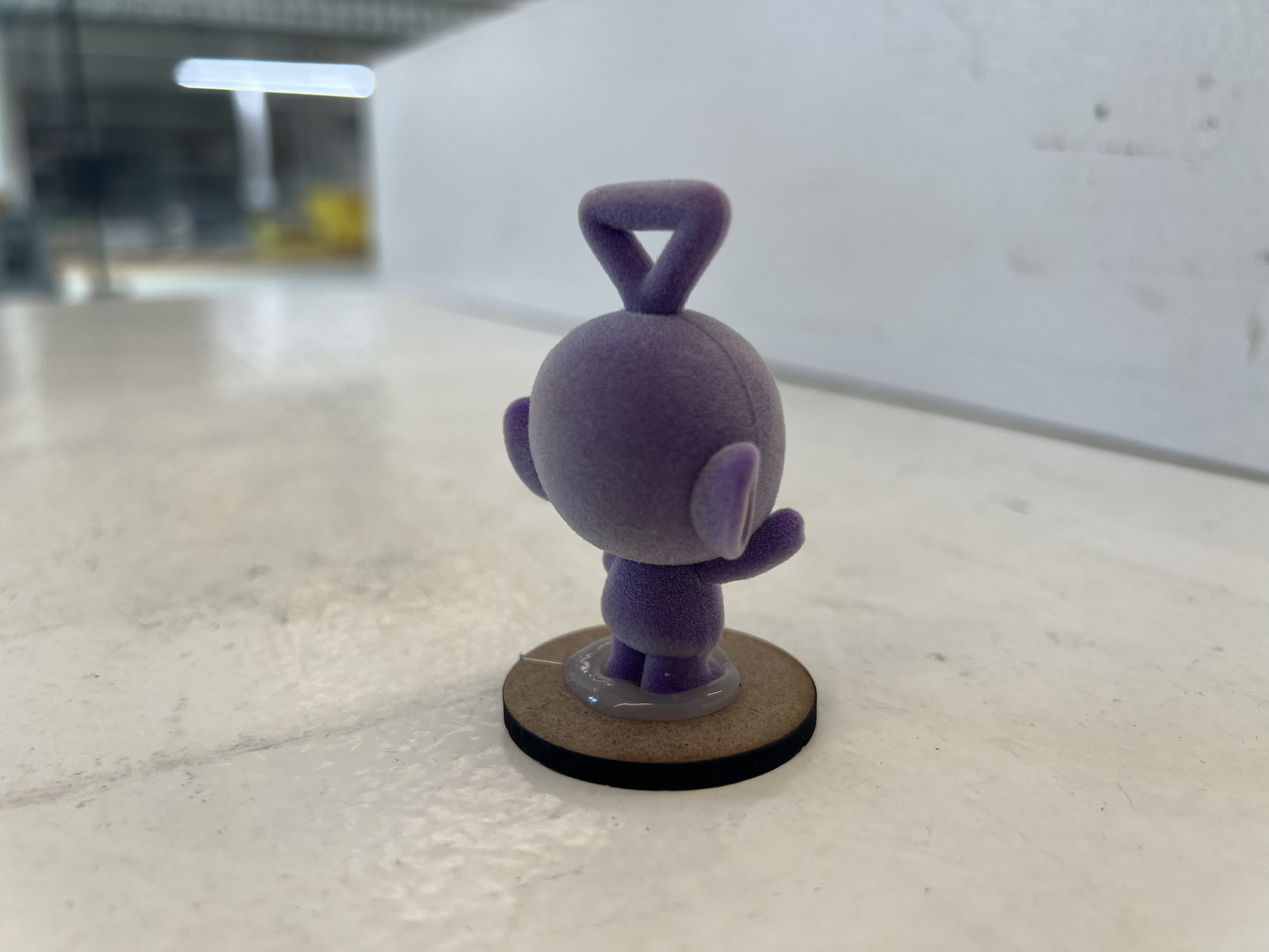teletubby: (504, 180, 804, 698)
